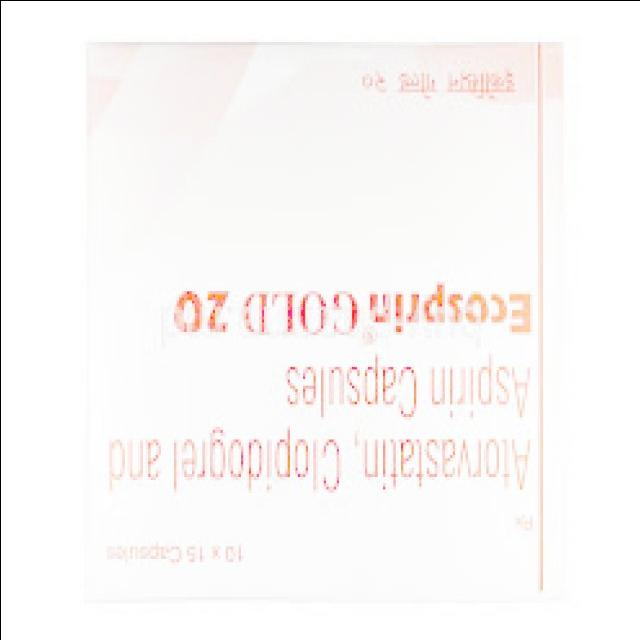authentic: (70, 22, 580, 614)
